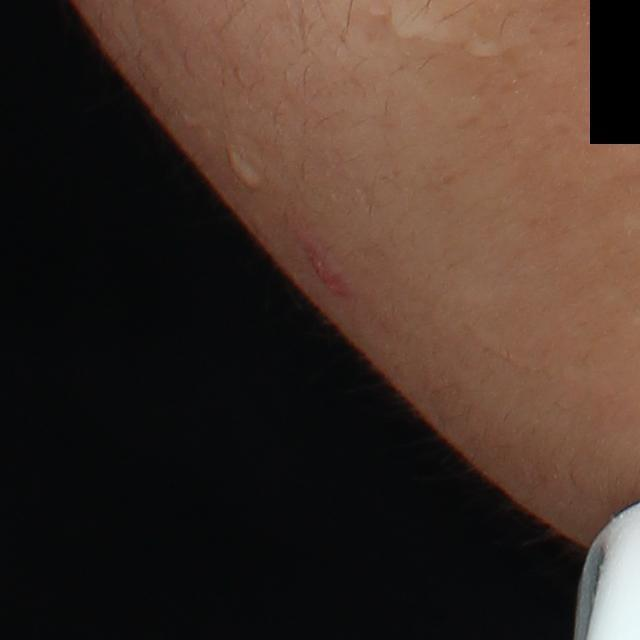papule: (302, 234, 354, 306)
